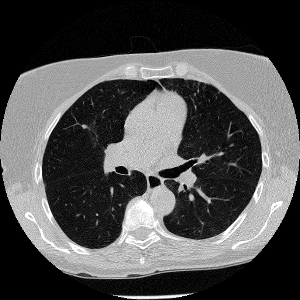nodule: (82, 124, 86, 128)
